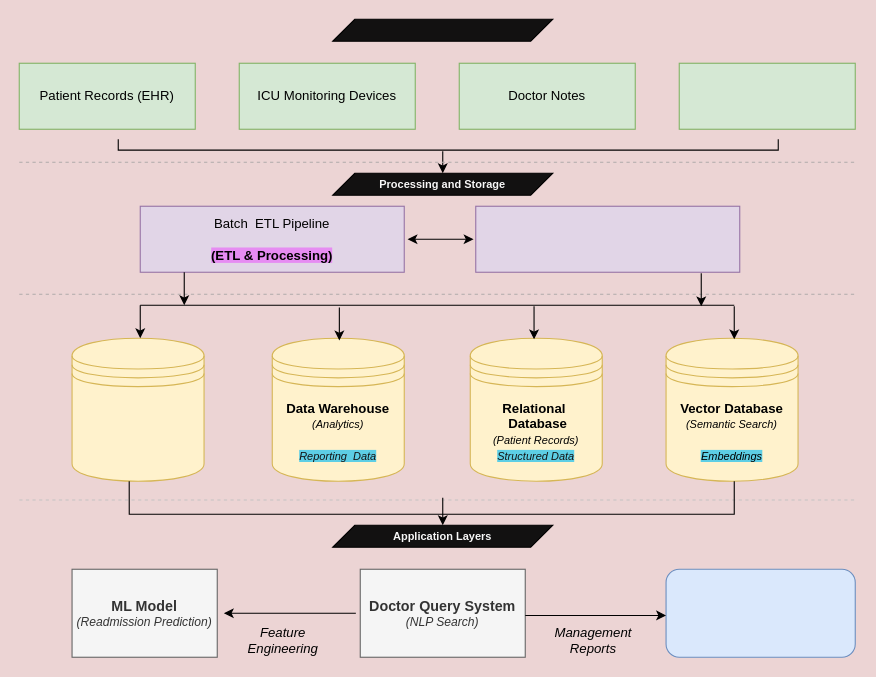
Some shapes in this 876 by 677 pixel diagram are drawn without their labels. Here are the shapes that lost their labels. From the top down, the box of each, then its label:
(332, 18, 553, 41): Data Sources
(678, 62, 855, 129): Billing and Operational Data
(475, 205, 740, 272): Real-Time Streaming (Kafka) ( Real-Time Ingest)
(71, 337, 204, 481): Data Lake (Raw Storage) Vitals , Notes, Logs
(665, 568, 855, 657): BI Dashboard & Reports (Real-Time Monitoring)
